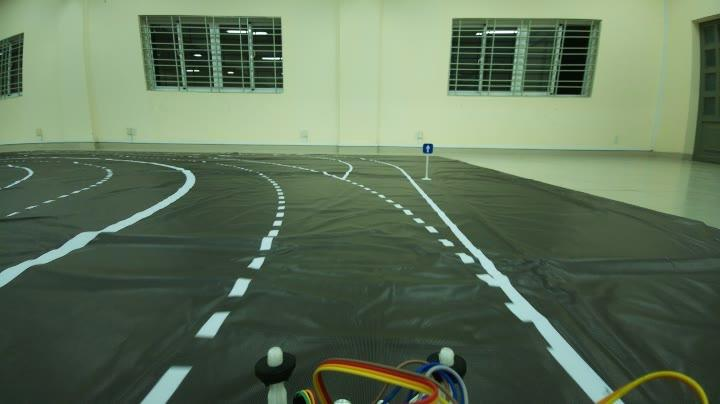onewayroad: (419, 137, 436, 155)
